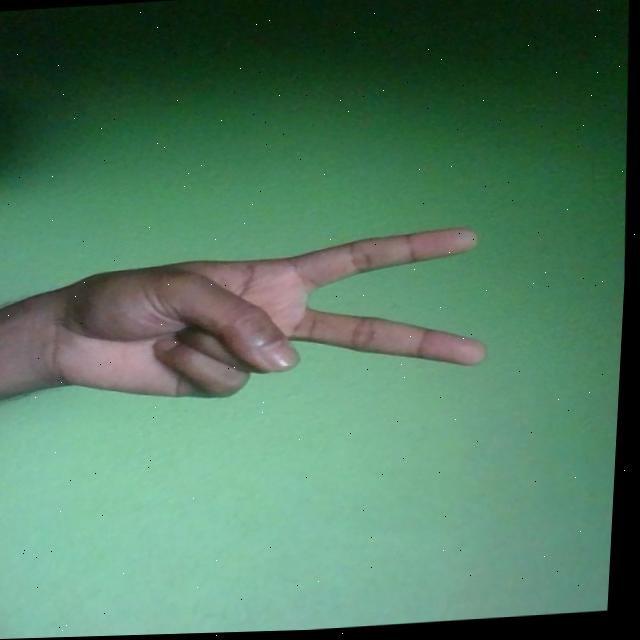Peace: (39, 228, 499, 410)
